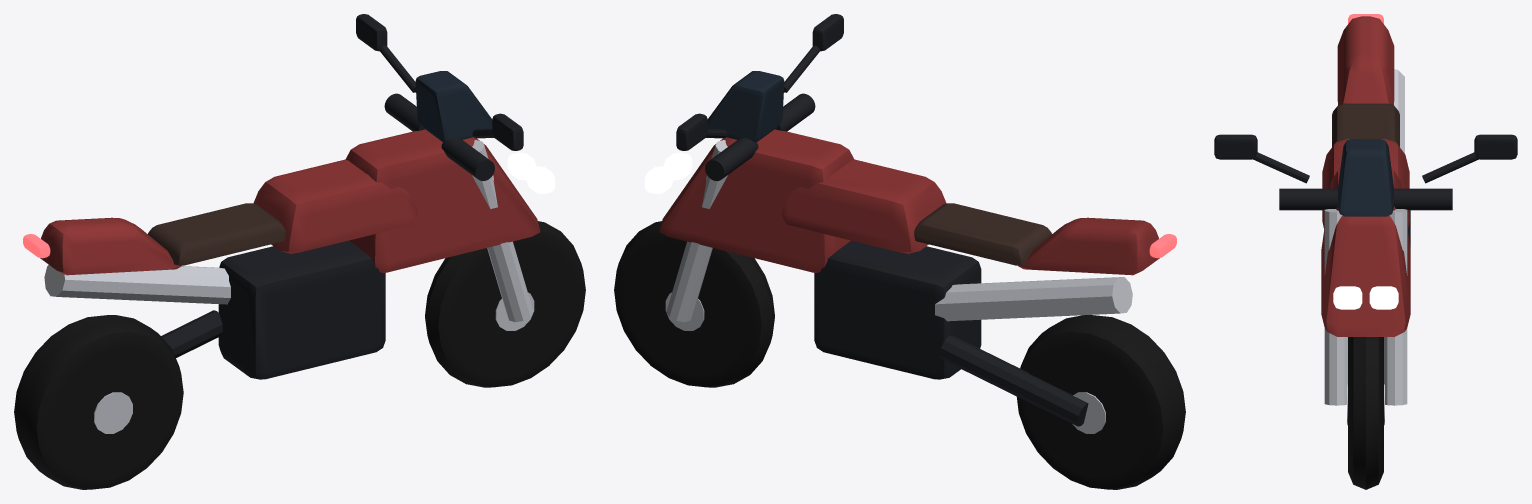
Rendered from sportbike.glb.
3 views of the same model, side by side, from view 1: azimuth 30°, elevation 25°; view 2: azimuth 150°, elevation 25°; view 3: azimuth 270°, elevation 25° (orthographic). The views are drawn at different scales.
Visible parts, largest first — view 1: part-paint, part-trim, wheel-rear-tyre, wheel-front-tyre, part-chrome, part-seat, part-glass, wheel-rear-spokes, headlight--1; view 2: part-paint, part-trim, wheel-rear-tyre, wheel-front-tyre, part-chrome, part-seat, part-glass, wheel-rear-spokes, headlight-1; view 3: part-paint, part-trim, wheel-front-tyre, part-chrome, part-glass, part-seat, headlight-1, headlight--1.
Part boxes in pixels (<box>): part-paint: <box>40,129,540,275</box>; part-trim: <box>161,14,523,379</box>; wheel-rear-tyre: <box>14,315,183,489</box>; wheel-front-tyre: <box>425,221,585,387</box>; part-chrome: <box>44,140,533,322</box>; part-seat: <box>148,203,285,265</box>; part-glass: <box>415,71,492,142</box>; wheel-rear-spokes: <box>94,392,132,433</box>; headlight--1: <box>526,166,555,193</box>; part-paint: <box>659,129,1159,275</box>; part-trim: <box>676,14,1088,426</box>; wheel-rear-tyre: <box>1016,315,1185,489</box>; wheel-front-tyre: <box>614,221,774,387</box>; part-chrome: <box>666,140,1132,322</box>; part-seat: <box>914,203,1051,265</box>; part-glass: <box>707,71,784,142</box>; wheel-rear-spokes: <box>1072,392,1105,433</box>; headlight-1: <box>644,166,673,193</box>; part-paint: <box>1321,16,1410,336</box>; part-trim: <box>1214,134,1517,248</box>; wheel-front-tyre: <box>1348,337,1383,489</box>; part-chrome: <box>1324,69,1407,405</box>; part-glass: <box>1338,139,1393,216</box>; part-seat: <box>1332,103,1399,146</box>; headlight-1: <box>1369,286,1398,309</box>; headlight--1: <box>1333,286,1362,309</box>.
Bounding box in the file's own units: 17.2 × 9.65 × 8.4.
